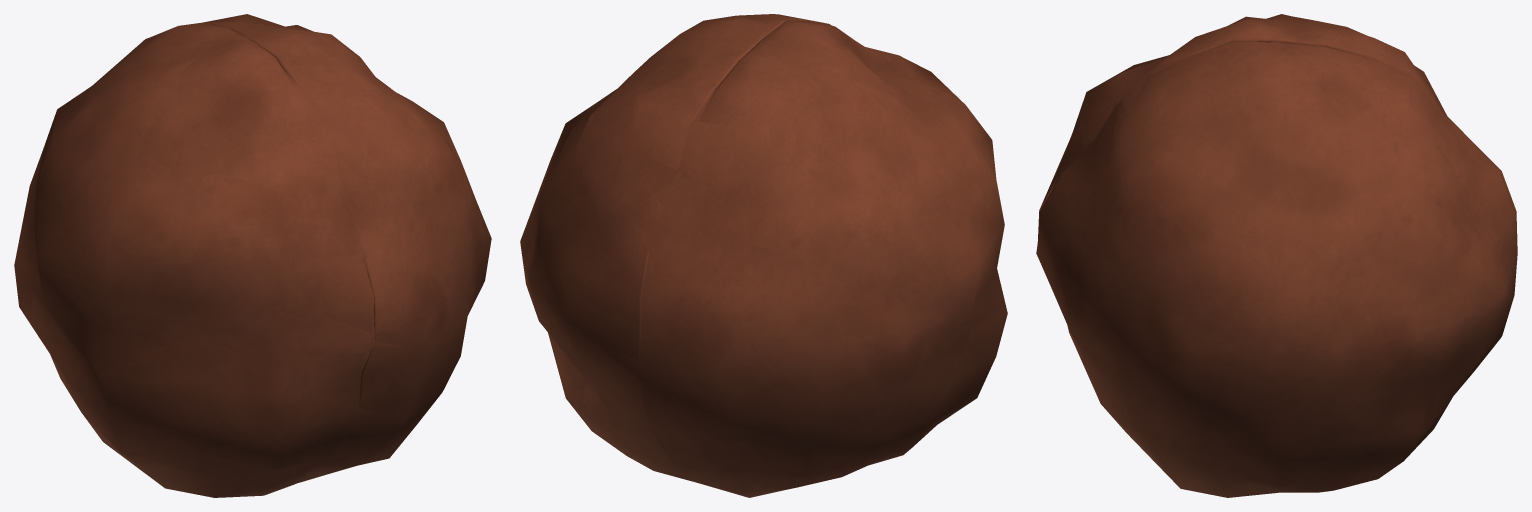
File: Albondiga.fbx
3 renders of one model, left to right at view 1: azimuth 30°, elevation 25°; view 2: azimuth 150°, elevation 25°; view 3: azimuth 270°, elevation 25°, orthographic.
Visible parts, largest first — view 1: Albondiga, Albondiga cortada, Albondiga cortada.001; view 2: Albondiga, Albondiga cortada, Albondiga cortada.001; view 3: Albondiga cortada, Albondiga cortada.001, Albondiga.
Part boxes in pixels (left/top/right/bottom): Albondiga: left=14, top=23, right=411, bottom=497; Albondiga cortada: left=203, top=14, right=491, bottom=482; Albondiga cortada.001: left=130, top=22, right=374, bottom=495; Albondiga: left=601, top=20, right=1007, bottom=497; Albondiga cortada: left=520, top=14, right=823, bottom=481; Albondiga cortada.001: left=644, top=20, right=886, bottom=347; Albondiga cortada: left=1037, top=41, right=1517, bottom=497; Albondiga cortada.001: left=1037, top=15, right=1441, bottom=243; Albondiga: left=1036, top=14, right=1517, bottom=336.
Size of the model in its own units: 108 by 107 by 106.
